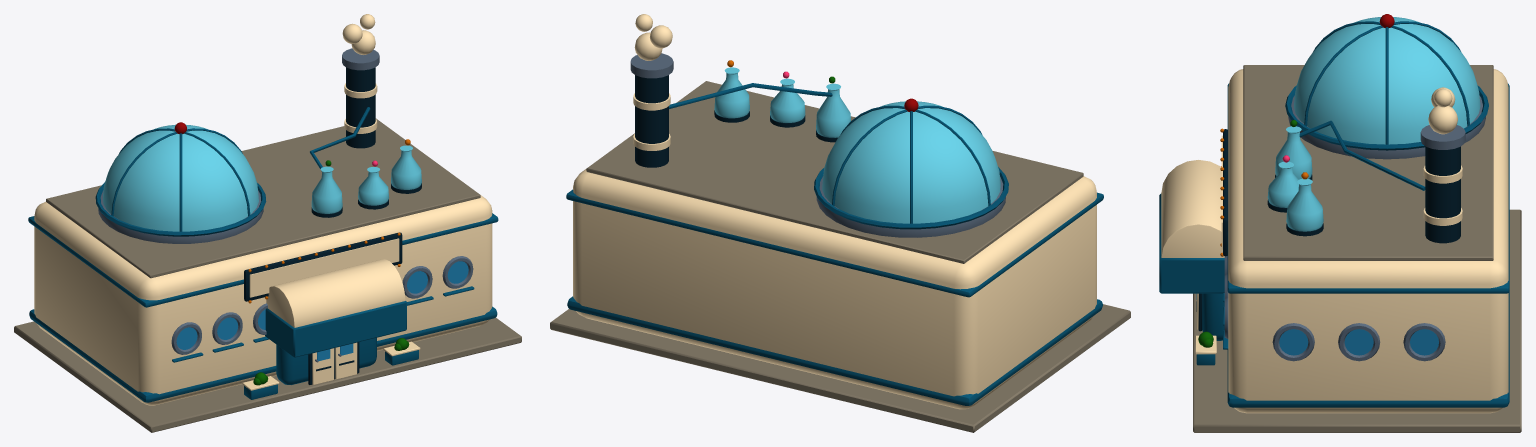
Rendered from LabBuilding.obj.
3 views of the same model, side by side, from view 1: azimuth 30°, elevation 25°; view 2: azimuth 150°, elevation 25°; view 3: azimuth 270°, elevation 25° (orthographic). The views are drawn at different scales.
Visible parts, largest first — view 1: LabBuilding; view 2: LabBuilding; view 3: LabBuilding.
Part boxes in pixels (bbox=[...]): LabBuilding: bbox=[14, 14, 521, 432]; LabBuilding: bbox=[550, 14, 1130, 432]; LabBuilding: bbox=[1159, 14, 1521, 432].
Size of the model in its own units: 27.4 by 18.6 by 19.4.
